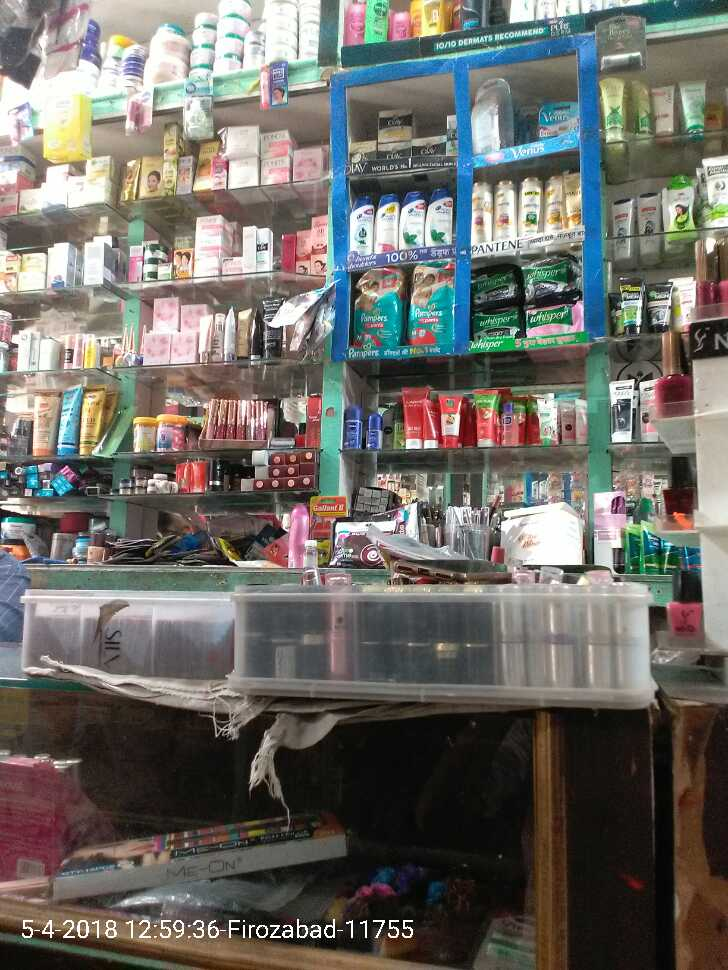venus: (473, 75, 512, 151), (536, 101, 579, 139)
